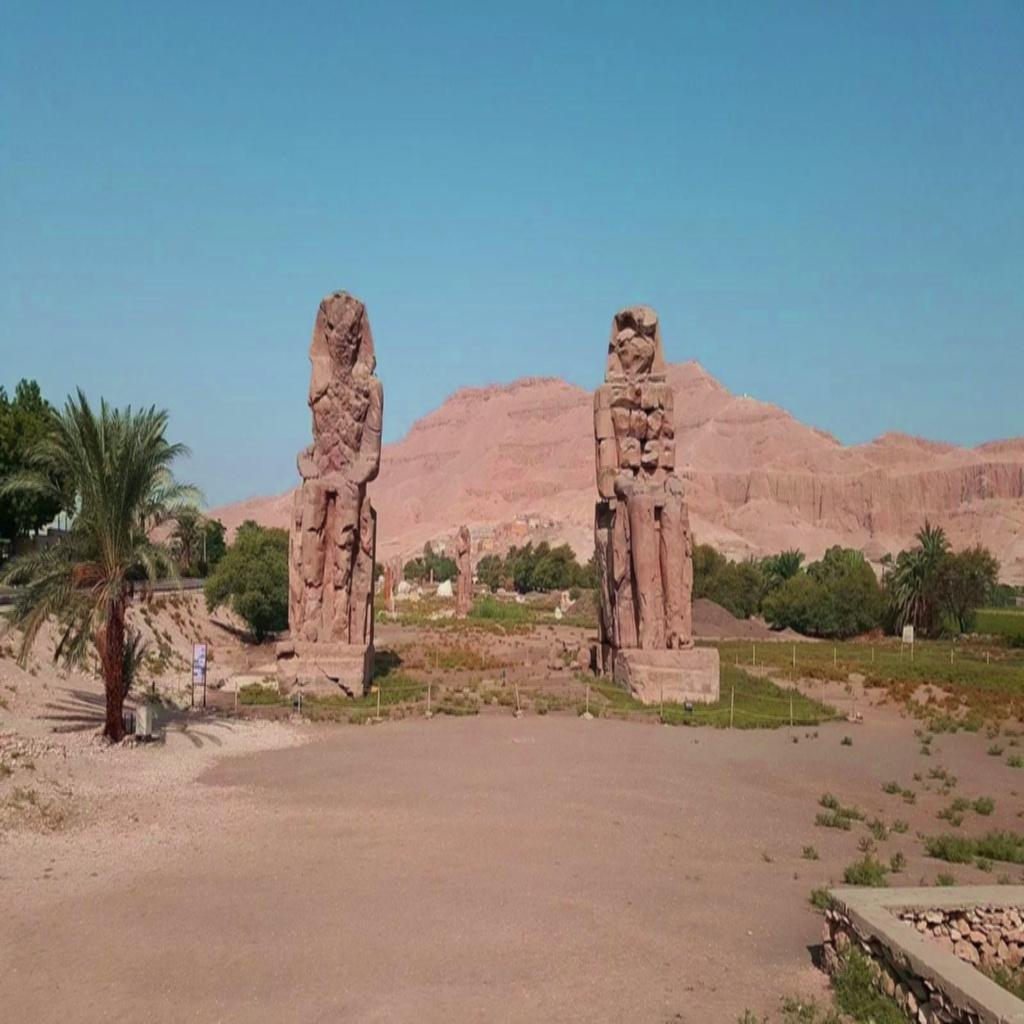Colossoi of Memnon: (588, 300, 720, 706), (283, 287, 385, 661)
